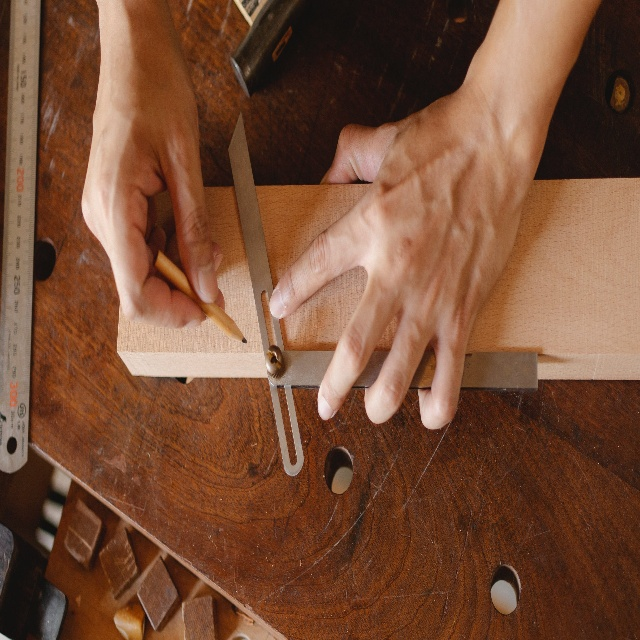Sin_guantes: (269, 78, 532, 431), (80, 0, 226, 329)
